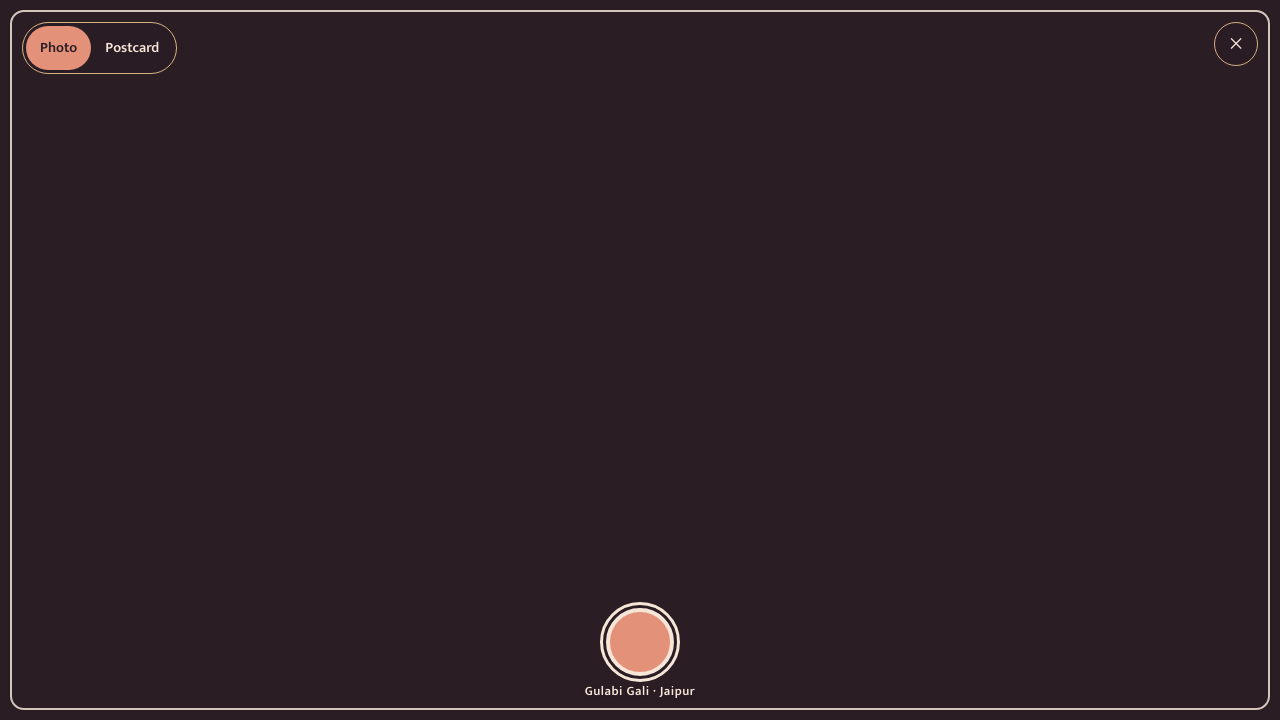
Test: "Postcard" frames the shot 9:16 with the place, and makes the postcard from the same stage
Expected: the radio button labelled "Photo" is checked, [26, 26, 91, 70]
Click the radio button labelled "Postcard": (132, 48) [105, 36, 159, 60]
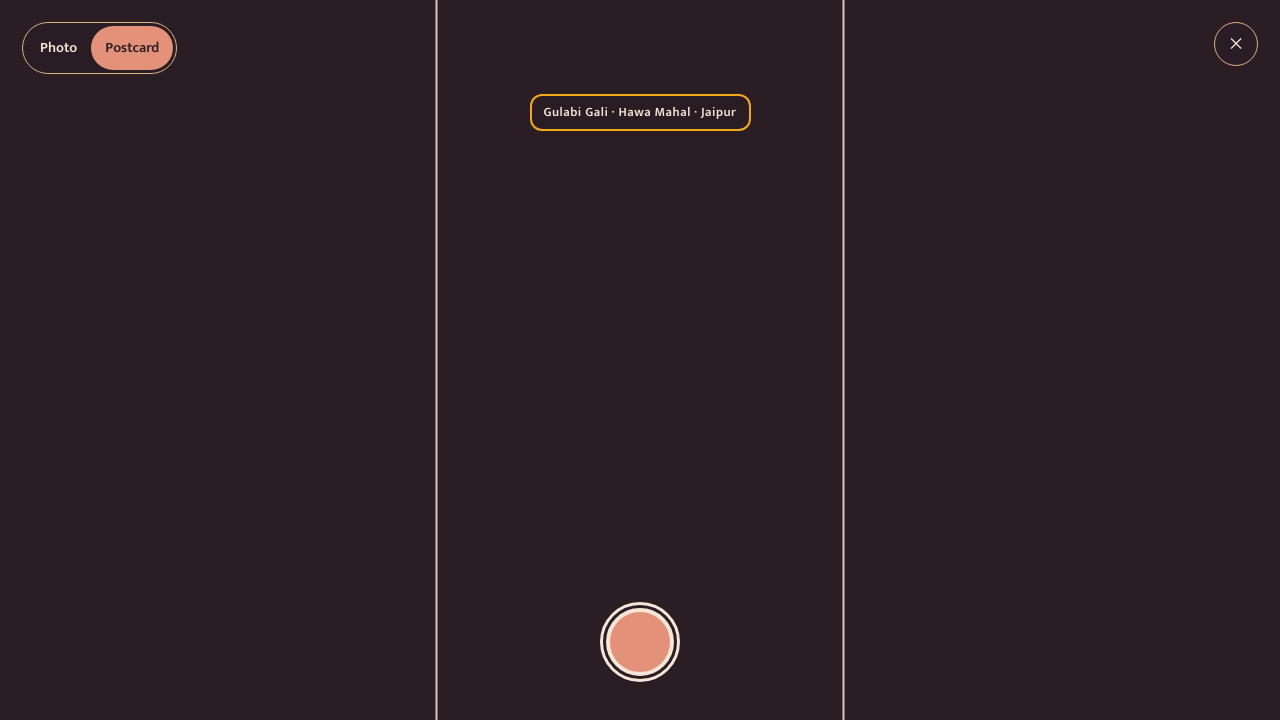
Expected: the text "Gulabi Gali · Hawa Mahal · Jaipur" is shown, [530, 94, 751, 131]
Click the button named "Take photo": (640, 642) [606, 608, 674, 676]
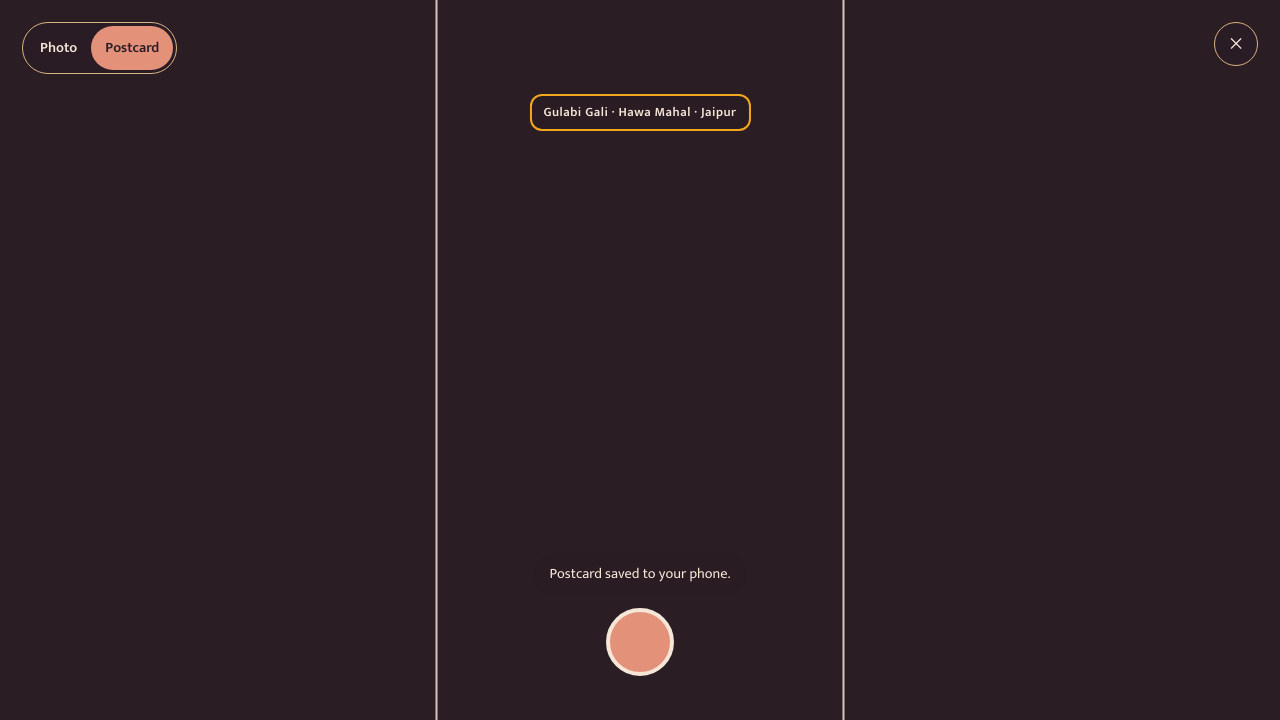
Expected: the message "Postcard saved to your phone." is shown, [534, 554, 746, 594]
